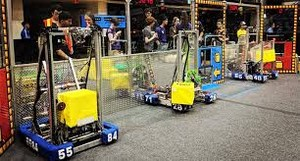cube: (58, 90, 99, 123), (170, 82, 193, 103)
